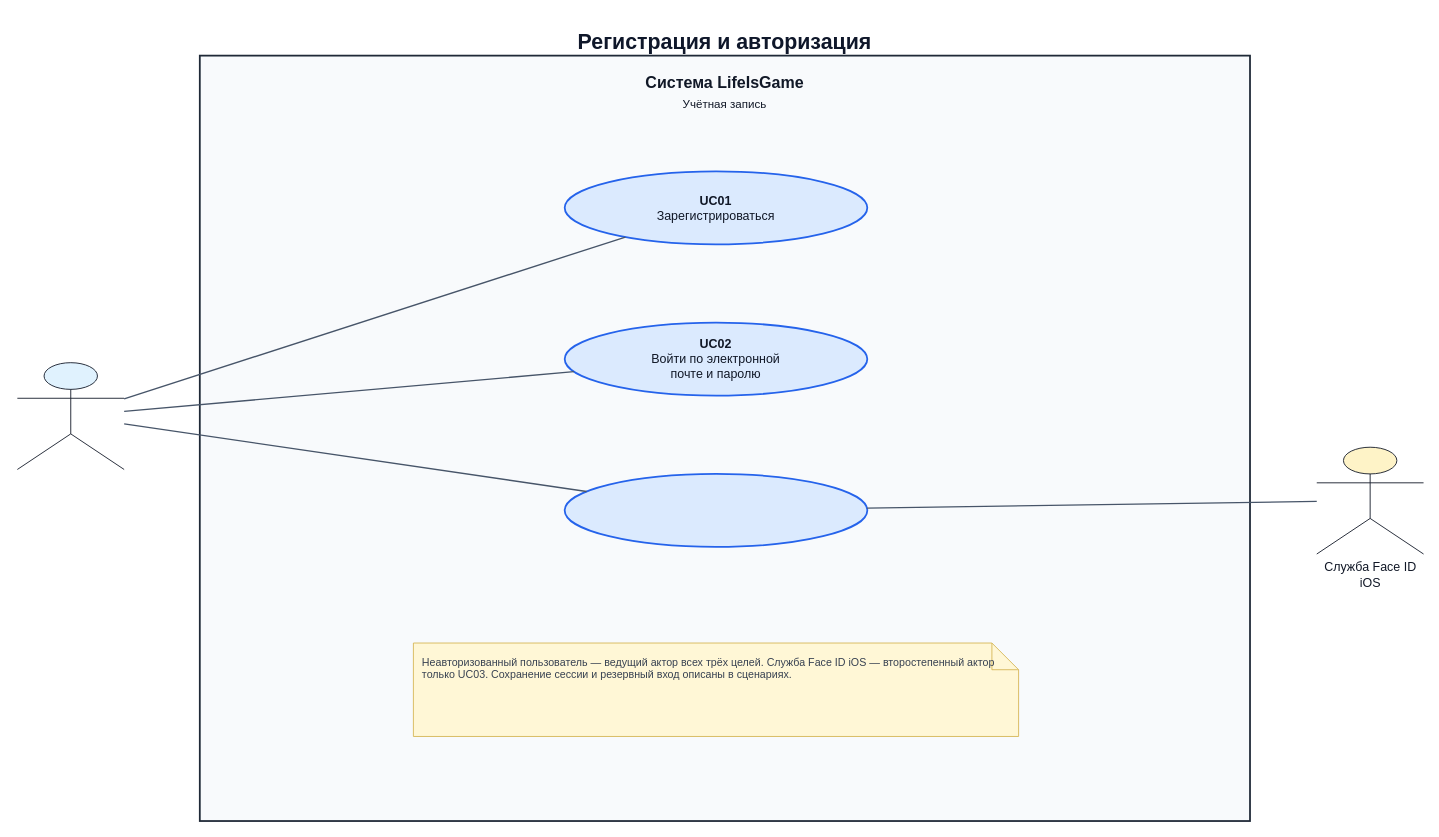
Some shapes in this 1439 by 837 pixel diagram are drawn without their labels. The centre of each missing label's shape, as x and y in pixels:
"UC03 Войти через Face ID" belongs at (x=715, y=510).
"Неавторизованный пользователь" belongs at (x=70, y=415).
